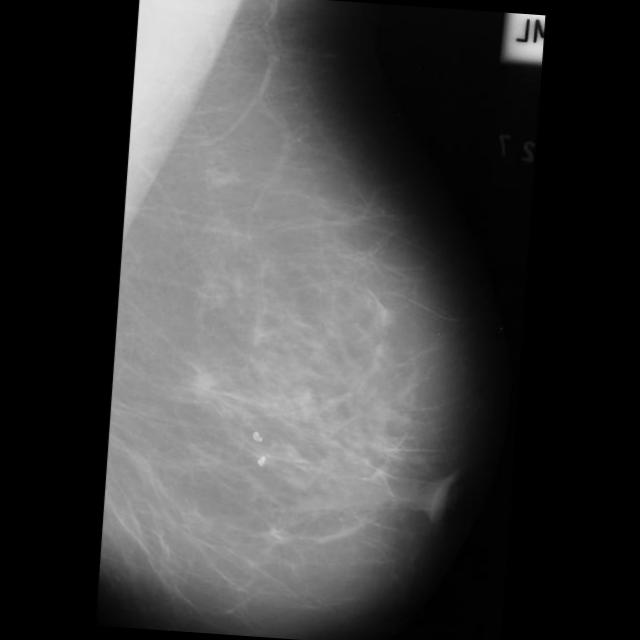SPIC: (192, 369, 220, 397)
